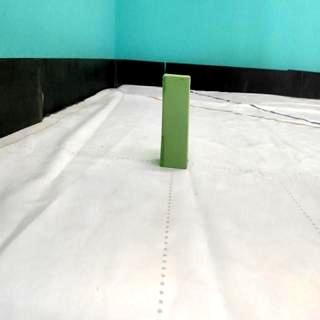greenbox: (160, 72, 191, 170)
